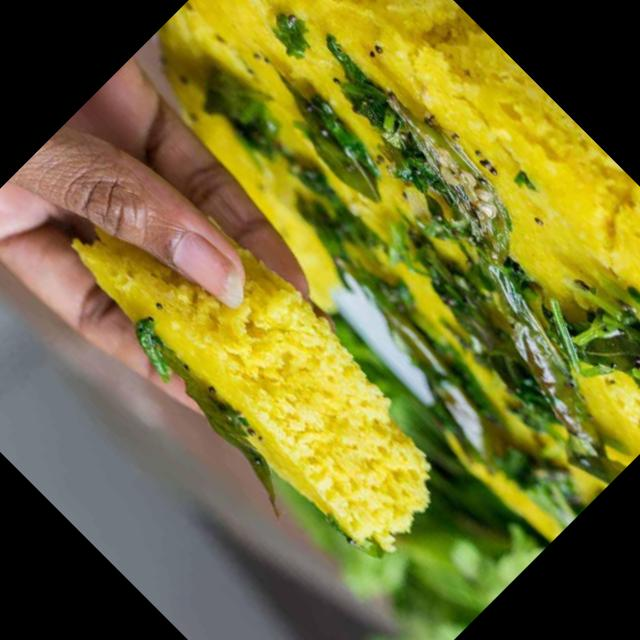dhokla: (100, 0, 640, 529), (40, 148, 475, 583)
